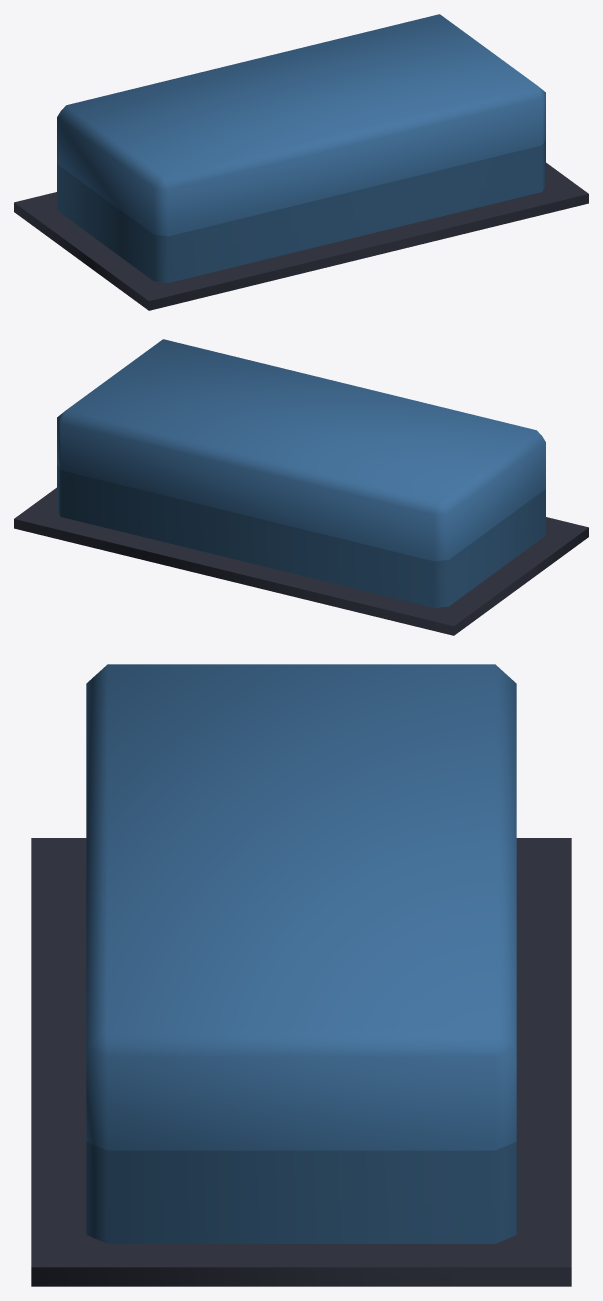
The model's file is RoofAdd_2_D_2.fbx.
3 views of the same model, one above another, from view 1: azimuth 30°, elevation 25°; view 2: azimuth 150°, elevation 25°; view 3: azimuth 270°, elevation 25° (orthographic). The views are drawn at different scales.
Parts seen in each view (by area): view 1: RoofAdd_2_D_2; view 2: RoofAdd_2_D_2; view 3: RoofAdd_2_D_2.
Boxes of the visible parts, x1,y1,x2,y2 form: RoofAdd_2_D_2: (14,14,588,310); RoofAdd_2_D_2: (14,339,588,635); RoofAdd_2_D_2: (31,664,571,1286).
Bounding box in the file's own units: 303 × 74.17 × 161.
